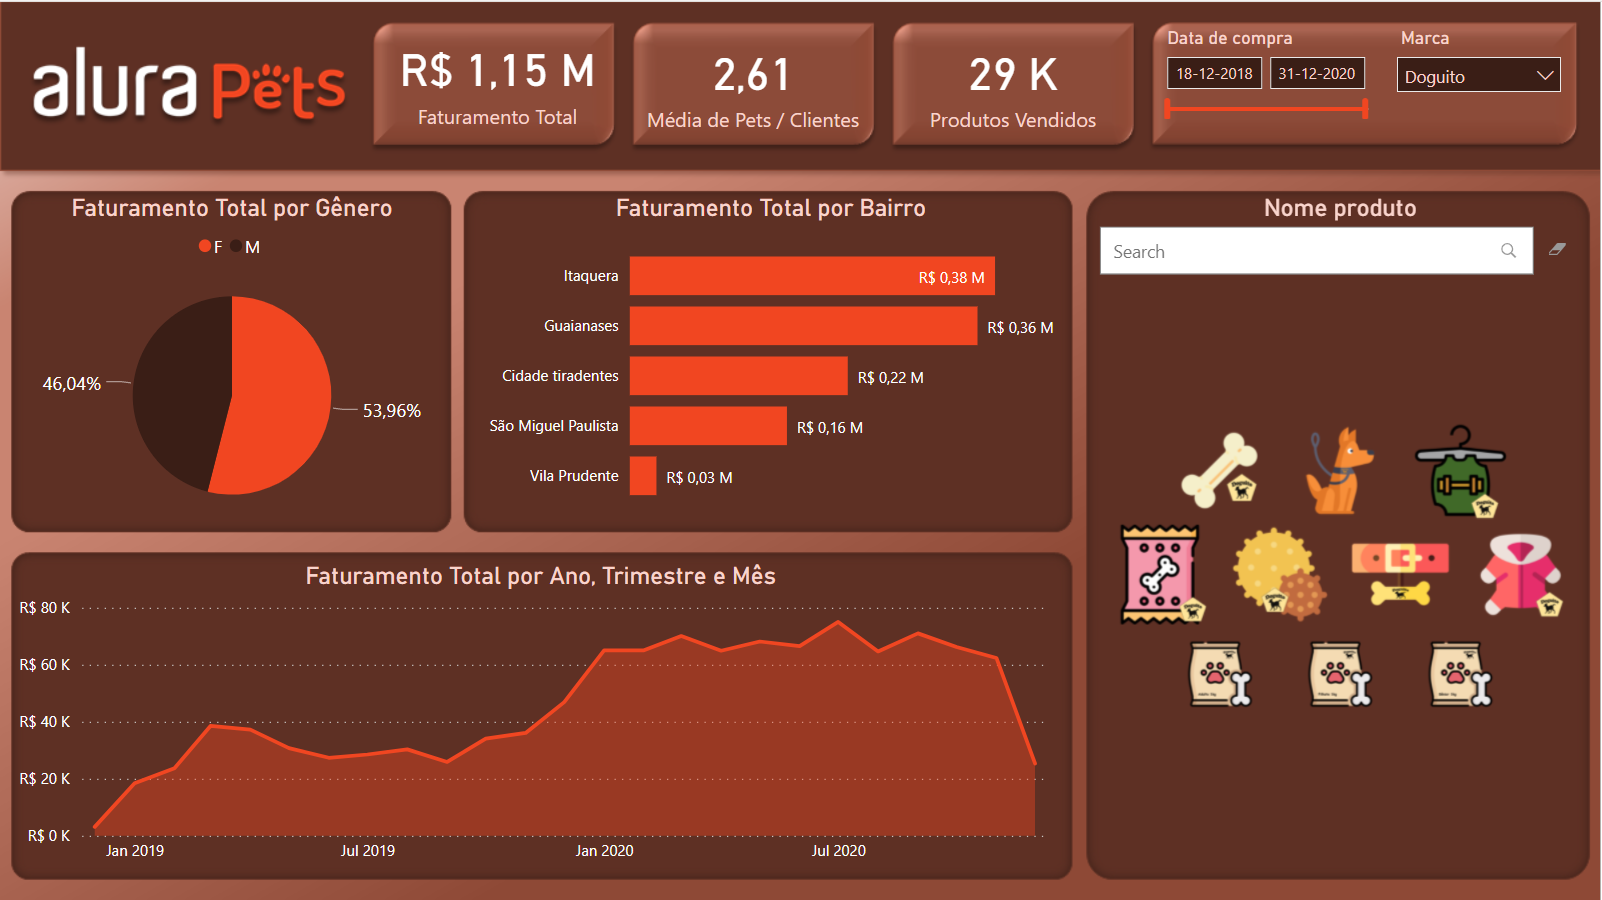

The page's visual inventory and layout, read from the dashboard file:
{"tool":"powerbi","page":{"name":"Página 1","canvas":[1280,720],"ordinal":0},"visuals":[{"type":"card","fields":{"Values":["fVendas.Faturamento Total"]},"box":[302.1,16.5,192.3,94.8],"z":0},{"type":"card","fields":{"Values":["Avg(dClientes.Pets)"]},"box":[508.2,20.6,189.5,90.6],"z":1},{"type":"card","fields":{"Values":["Sum(fVendas.Quantidade)"]},"box":[715.5,20.6,189.5,90.6],"z":2},{"type":"pieChart","fields":{"Category":["dClientes.Gênero"],"Y":["fVendas.Faturamento Total"]},"box":[9.9,153.5,351.6,272.3],"z":3},{"type":"clusteredBarChart","fields":{"Category":["dClientes.Bairro"],"Y":["fVendas.Faturamento Total"]},"box":[377.6,153.5,477.8,263.7],"z":4},{"type":"areaChart","fields":{"Category":["fVendas.Data de compra.Variation.Hierarquia de datas.Ano","fVendas.Data de compra.Variation.Hierarquia de datas.Trimestre","fVendas.Data de compra.Variation.Hierarquia de datas.Mês","fVendas.Data de compra.Variation.Hierarquia de datas.Dia"],"Y":["fVendas.Faturamento Total"]},"box":[9.9,449.4,845.5,250.1],"z":5},{"type":"ImageGrid_FC5183B9_926C_45E0_B5F7_0CE9EAF1DA9B","fields":{"ImageURLHQ":["dProdutos.Url img"]},"box":[875.2,219.1,394.9,480.3],"z":6},{"type":"textFilter25A4896A83E0487089E2B90C9AE57C8A","fields":{"field":["dProdutos.Nome produto"]},"box":[875.2,153.5,394.9,95.3],"z":7},{"type":"slicer","fields":{"Values":["dProdutos.Marca"]},"box":[1107.9,16.1,151,95.3],"z":8},{"type":"slicer","fields":{"Values":["fVendas.Data de compra"]},"box":[921,16.1,186.9,108.9],"z":9}]}

Visuals, with their boxes in screenshot pixels (x1, y1, x2, y2), scaled from the page's 1280x720 canvas onto the 1602x900 screenshot:
card - fVendas.Faturamento Total: box=[378, 21, 619, 139]
card - Avg(dClientes.Pets): box=[636, 26, 873, 139]
card - Sum(fVendas.Quantidade): box=[895, 26, 1133, 139]
pieChart - dClientes.Gênero x fVendas.Faturamento Total: box=[12, 192, 452, 532]
clusteredBarChart - dClientes.Bairro x fVendas.Faturamento Total: box=[473, 192, 1071, 522]
areaChart - fVendas.Data de compra.Variation.Hierarquia de datas.Ano x fVendas.Data de compra.Variation.Hierarquia de datas.Trimestre: box=[12, 562, 1071, 874]
ImageGrid_FC5183B9_926C_45E0_B5F7_0CE9EAF1DA9B - dProdutos.Url img: box=[1095, 274, 1590, 874]
textFilter25A4896A83E0487089E2B90C9AE57C8A - dProdutos.Nome produto: box=[1095, 192, 1590, 311]
slicer - dProdutos.Marca: box=[1387, 20, 1576, 139]
slicer - fVendas.Data de compra: box=[1153, 20, 1387, 156]
